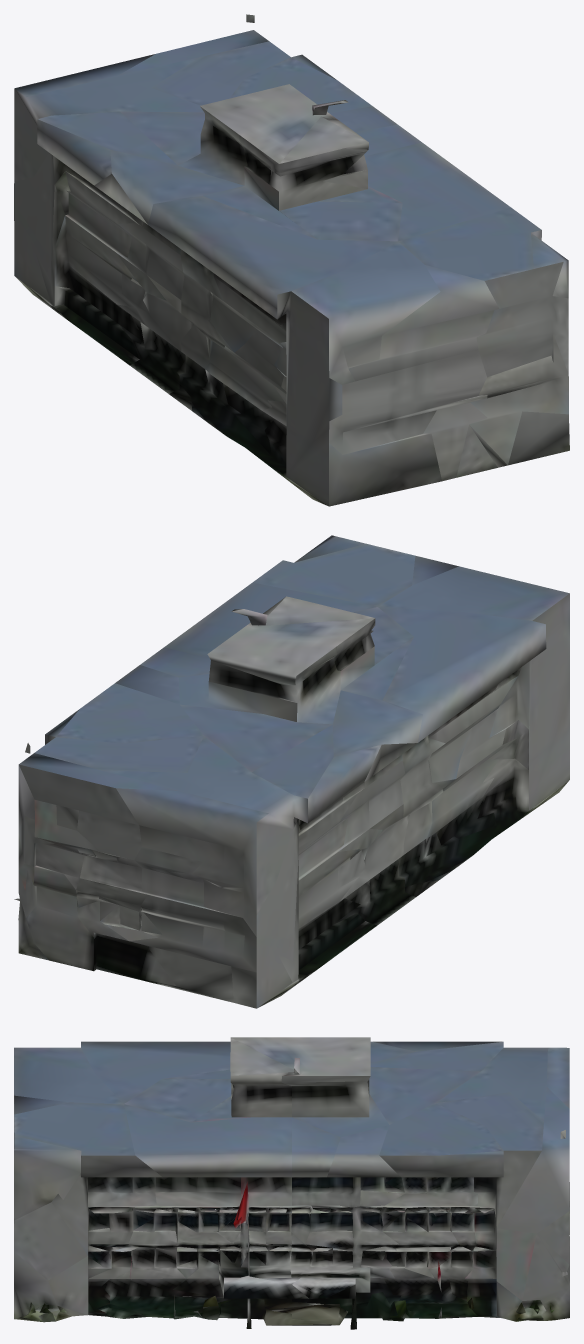
The model's file is kantor_tni_lod2.glb.
3 renders of one model, top to bottom at view 1: azimuth 30°, elevation 25°; view 2: azimuth 150°, elevation 25°; view 3: azimuth 270°, elevation 25°, orthographic. The views are drawn at different scales.
Parts seen in each view (by area): view 1: tripo_node_908ddbb5; view 2: tripo_node_908ddbb5; view 3: tripo_node_908ddbb5.
Part boxes in pixels (x1,y1,x2,y2): tripo_node_908ddbb5: (14,14,569,506); tripo_node_908ddbb5: (14,535,569,1008); tripo_node_908ddbb5: (14,1037,569,1329).
Size of the model in its own units: 54.48 by 43.83 by 99.87.
1 material, 1 textured.
